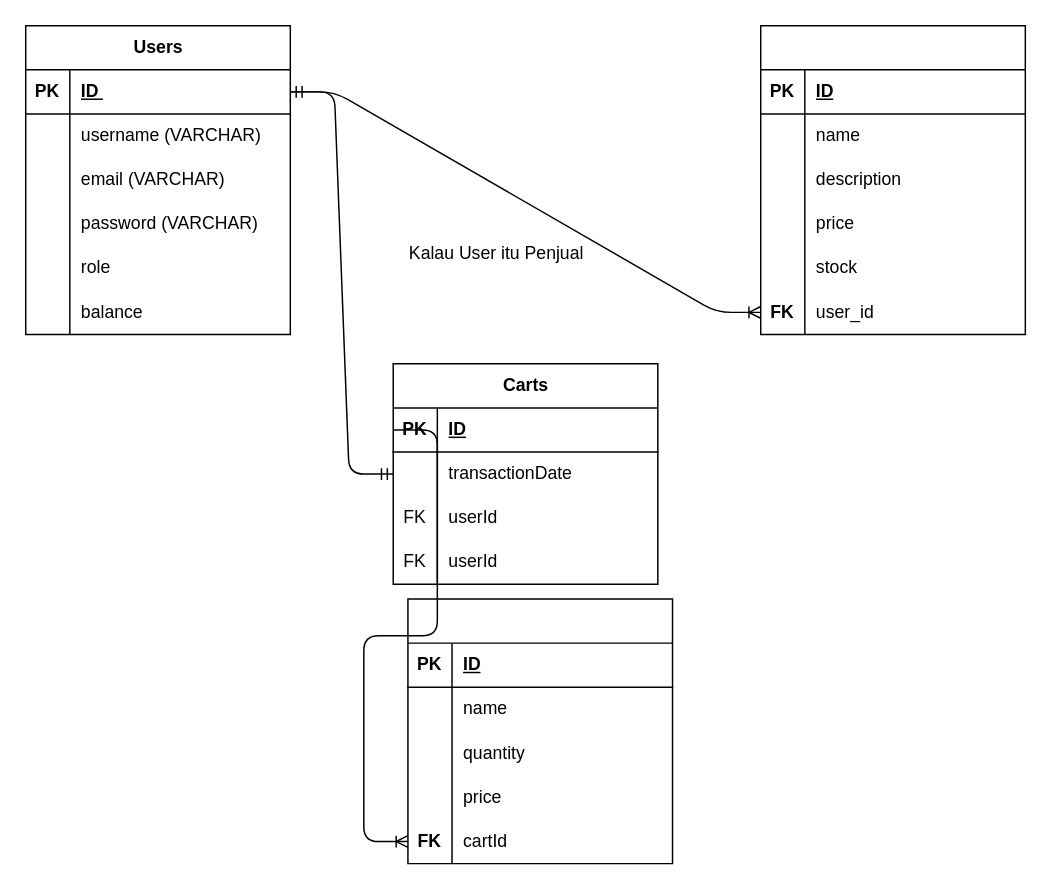
Image size: 1051x889. Some labels were removed from this diagram. The shapes that lost their labels are listed below. From the top down, each one's box as (x1, y1, x2, y2) in pixels, then its label:
(759, 24, 1025, 334): Products
(406, 598, 673, 864): CartDetails
